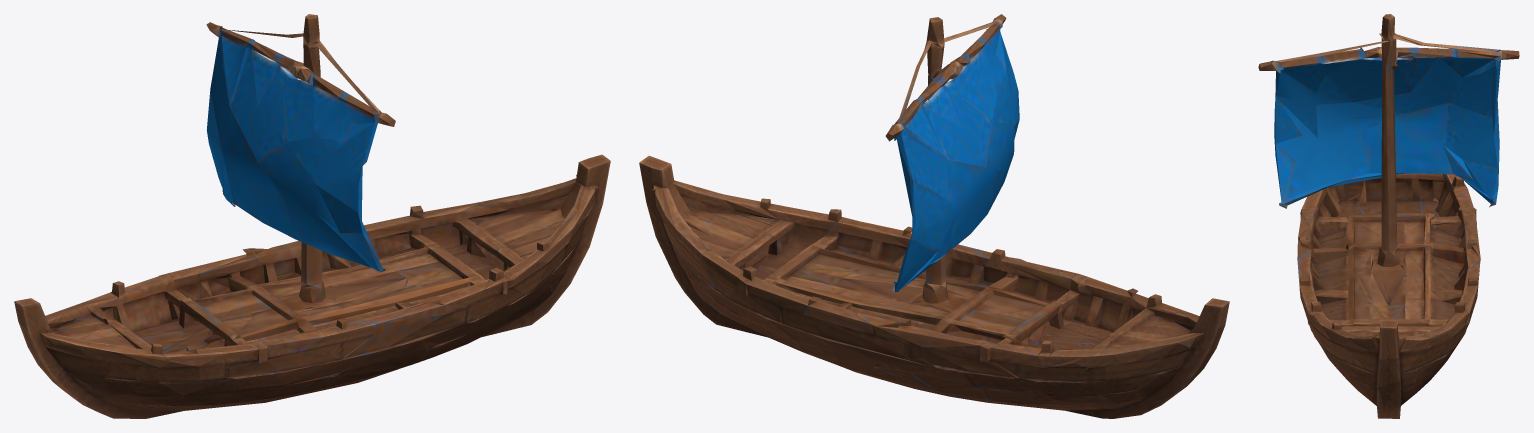
Rendered from transport.glb.
3 renders of one model, left to right at view 1: azimuth 30°, elevation 25°; view 2: azimuth 150°, elevation 25°; view 3: azimuth 270°, elevation 25°, orthographic. The views are drawn at different scales.
Bounding box in the file's own units: 1.9 × 1.1 × 0.8357.
1 material, 1 textured.
